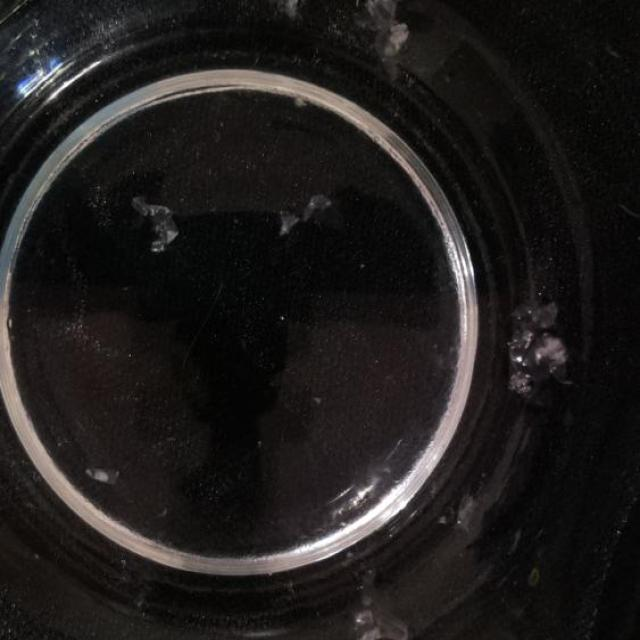fiber: (353, 2, 471, 81), (503, 293, 575, 399), (335, 572, 415, 640), (273, 186, 340, 238), (127, 199, 183, 257), (452, 491, 497, 539), (81, 457, 125, 489)
